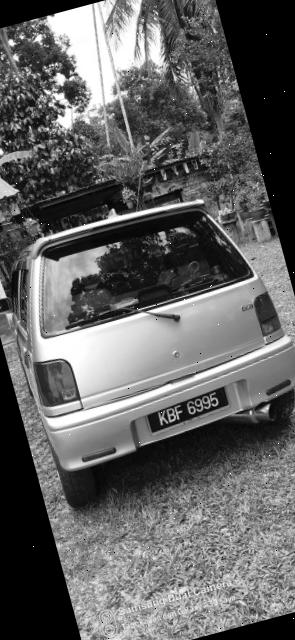License_Plate: (148, 389, 232, 434)
car: (1, 182, 295, 505)
